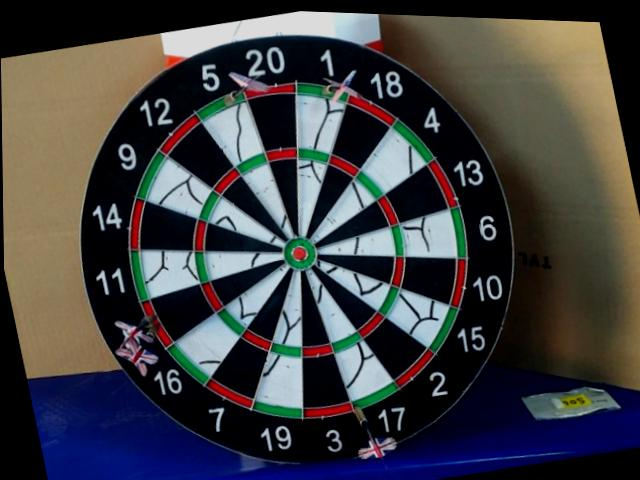double_1: (299, 82, 351, 106)
double_17: (352, 382, 399, 409)
double_5: (196, 90, 243, 119)
double_8: (144, 301, 172, 347)
